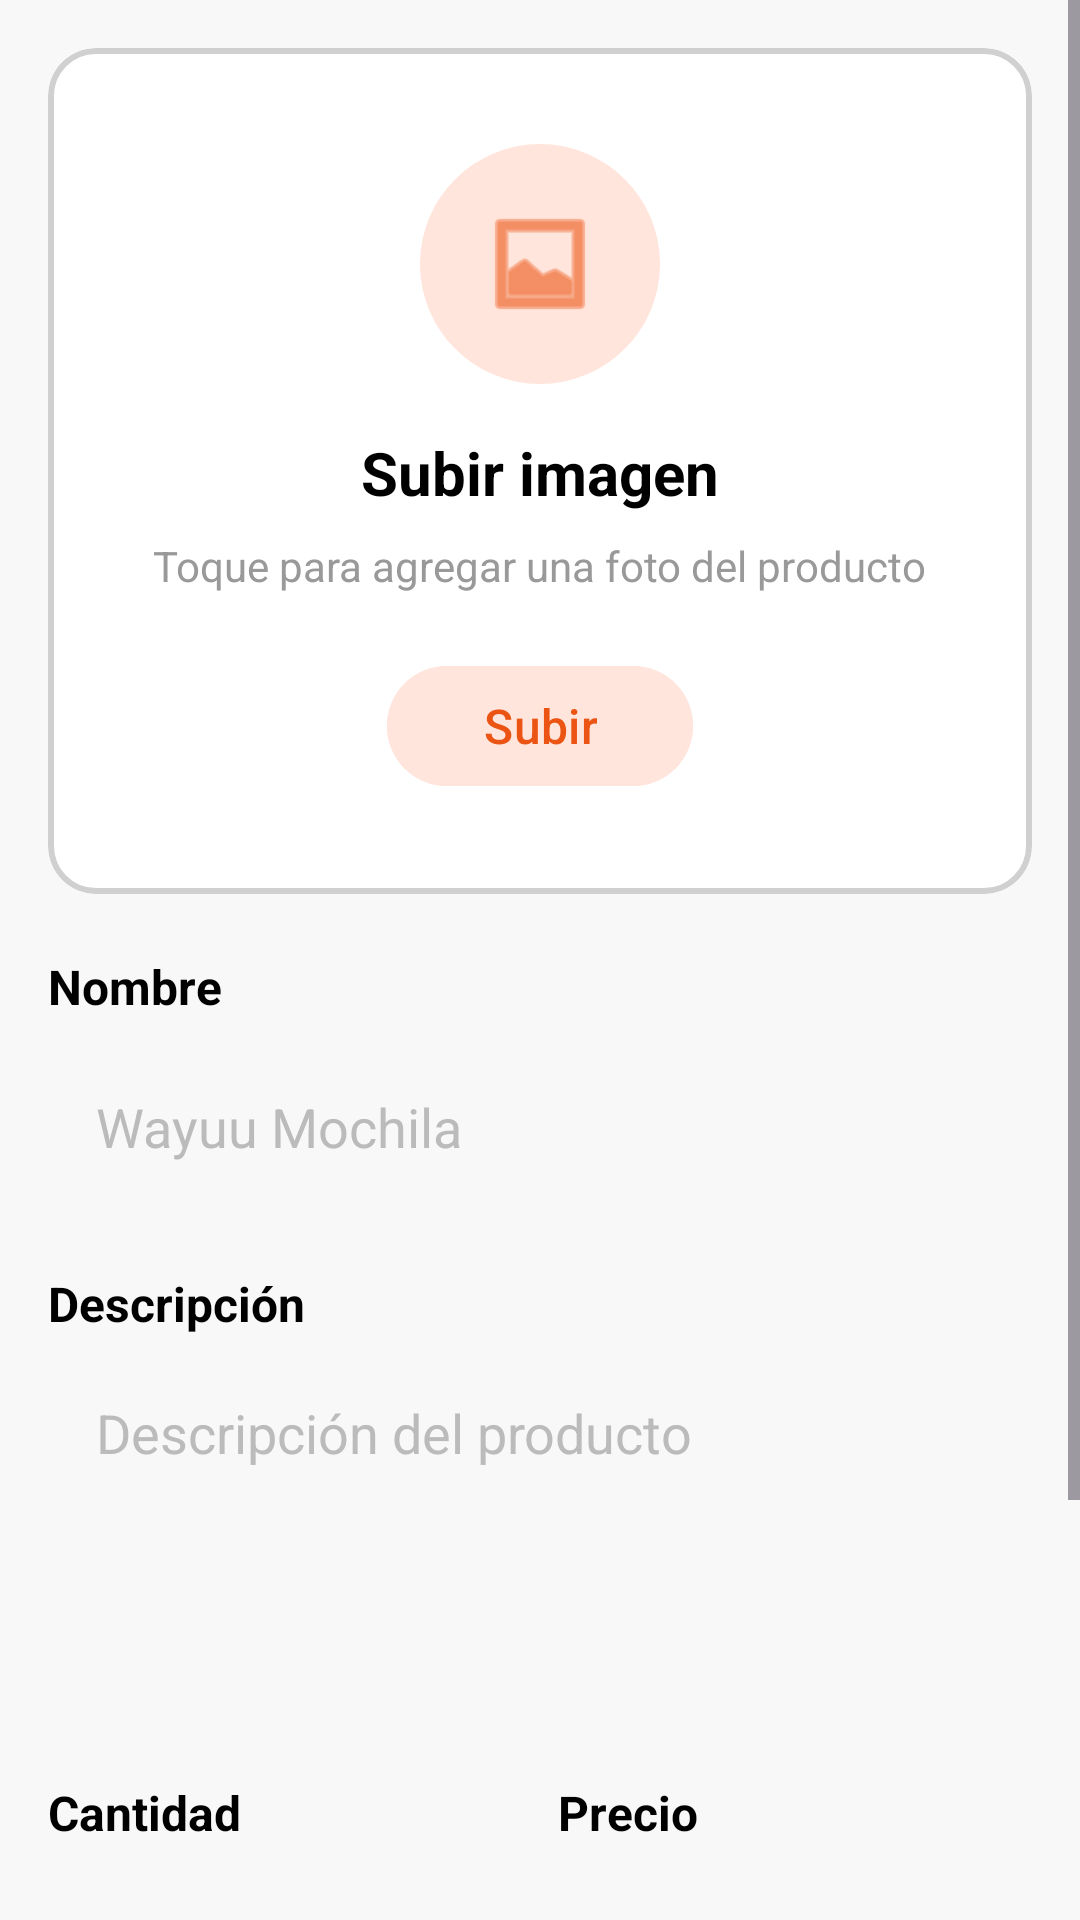

Icon bounding boxes for this 1080 × 1920 phone screenshot, format (x1, y1, x2, y2):
Subir icono: (495, 219, 585, 309)
